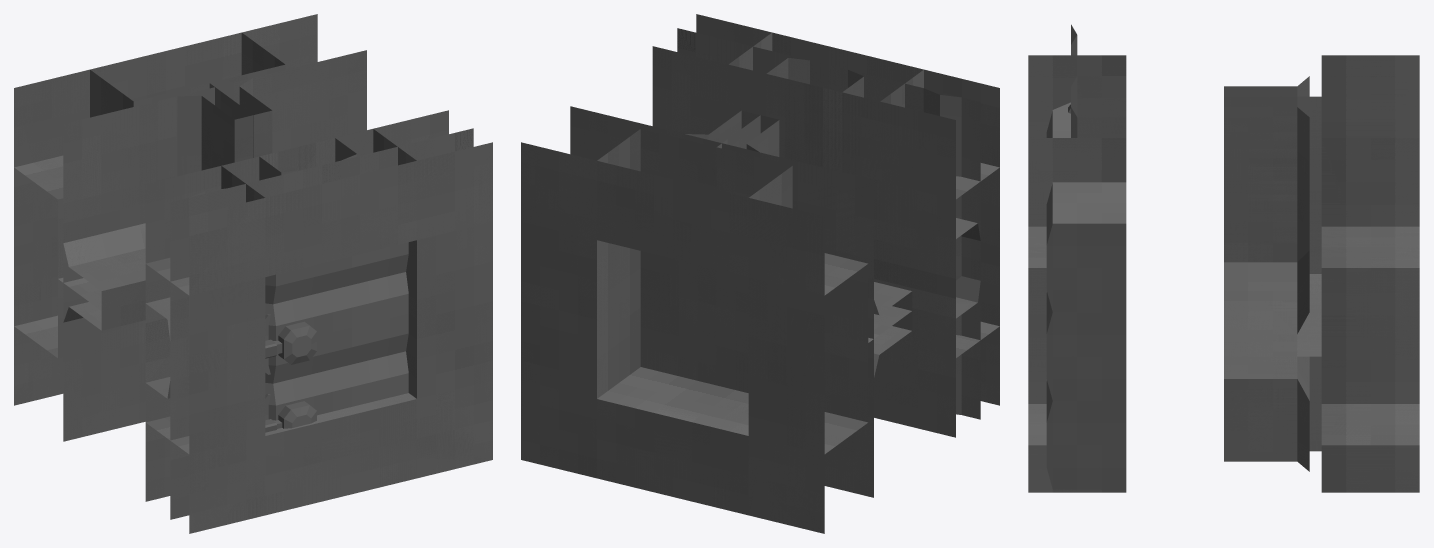
File: vaultdoor.obj
3 renders of one model, left to right at view 1: azimuth 30°, elevation 25°; view 2: azimuth 150°, elevation 25°; view 3: azimuth 270°, elevation 25°, orthographic. The views are drawn at different scales.
Visible parts, largest first — view 1: 2x2_1, 2x2_2, 2x2_3, 2x2_4, 3x3_6, 3x3_2, 3x3_4, 3x3_5, 3x3_8; view 2: 2x2_4, 2x2_1, 2x2_2, 2x2_3, 3x3_6, 3x3_2, 3x3_8, 3x3_5, 3x3_4; view 3: 2x2_1, 2x2_2, 3x3_4, 2x2_3, 2x2_4, 3x3_6, 3x3_2, 3x3_8.
Part boxes in pixels (x1,y1,x2,y2): 2x2_1: (14, 50, 492, 533); 2x2_2: (14, 15, 492, 530); 2x2_3: (14, 14, 492, 533); 2x2_4: (14, 14, 492, 519); 3x3_6: (63, 33, 481, 518); 3x3_2: (14, 51, 491, 459); 3x3_4: (16, 50, 468, 532); 3x3_5: (63, 50, 473, 519); 3x3_8: (14, 17, 480, 517); 2x2_4: (521, 14, 999, 497); 2x2_1: (521, 28, 999, 533); 2x2_2: (521, 16, 999, 532); 2x2_3: (521, 14, 999, 533); 3x3_6: (525, 15, 980, 497); 3x3_2: (570, 33, 997, 528); 3x3_8: (521, 126, 996, 496); 3x3_5: (570, 28, 980, 497); 3x3_4: (571, 31, 985, 513); 2x2_1: (1028, 55, 1419, 445); 2x2_2: (1028, 25, 1419, 403); 3x3_4: (1028, 55, 1419, 471); 2x2_3: (1028, 226, 1419, 489); 2x2_4: (1028, 268, 1419, 492); 3x3_6: (1028, 24, 1419, 492); 3x3_2: (1028, 250, 1419, 445); 3x3_8: (1028, 226, 1419, 399).
Bounding box in the file's own units: 2 × 2 × 2.
